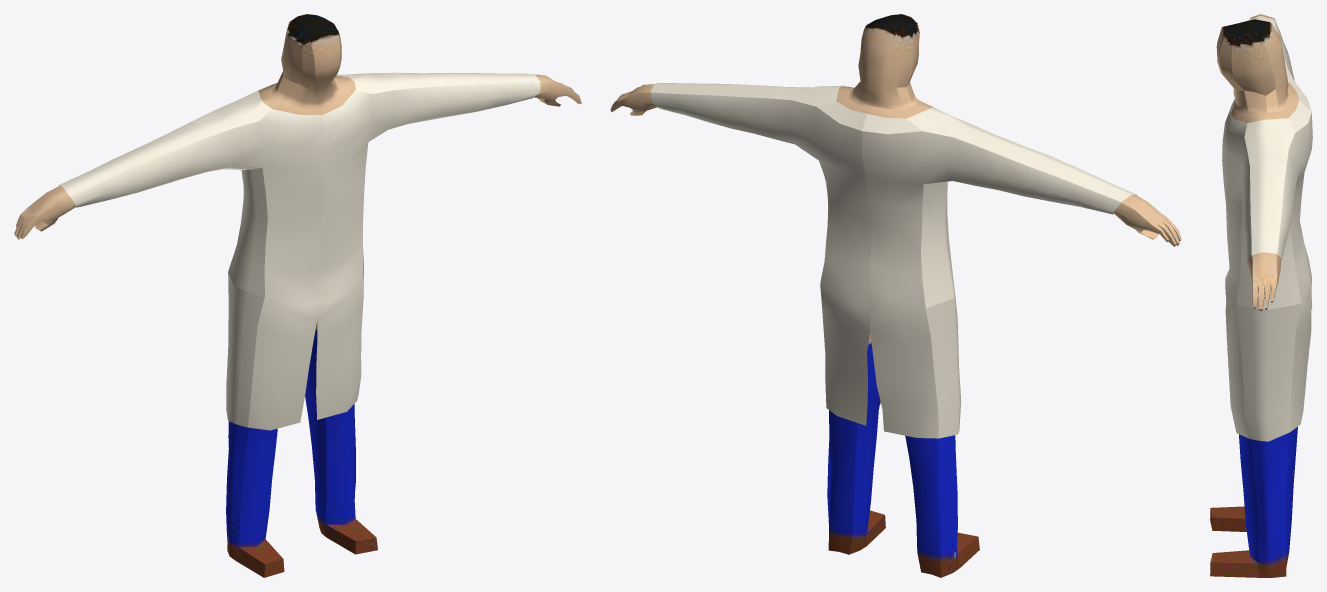
The model's file is Dono.fbx.
The picture shows the model from 3 angles, left to right: view 1: azimuth 30°, elevation 25°; view 2: azimuth 150°, elevation 25°; view 3: azimuth 270°, elevation 25°; orthographic projection.
Parts seen in each view (by area): view 1: polySurface5; view 2: polySurface5; view 3: polySurface5.
Part boxes in pixels (x1,y1,x2,y2): polySurface5: [14, 14, 581, 577]; polySurface5: [610, 14, 1181, 577]; polySurface5: [1210, 14, 1312, 577].
Bounding box in the file's own units: 33.12 × 29.68 × 5.19.
1 material, 1 textured.
